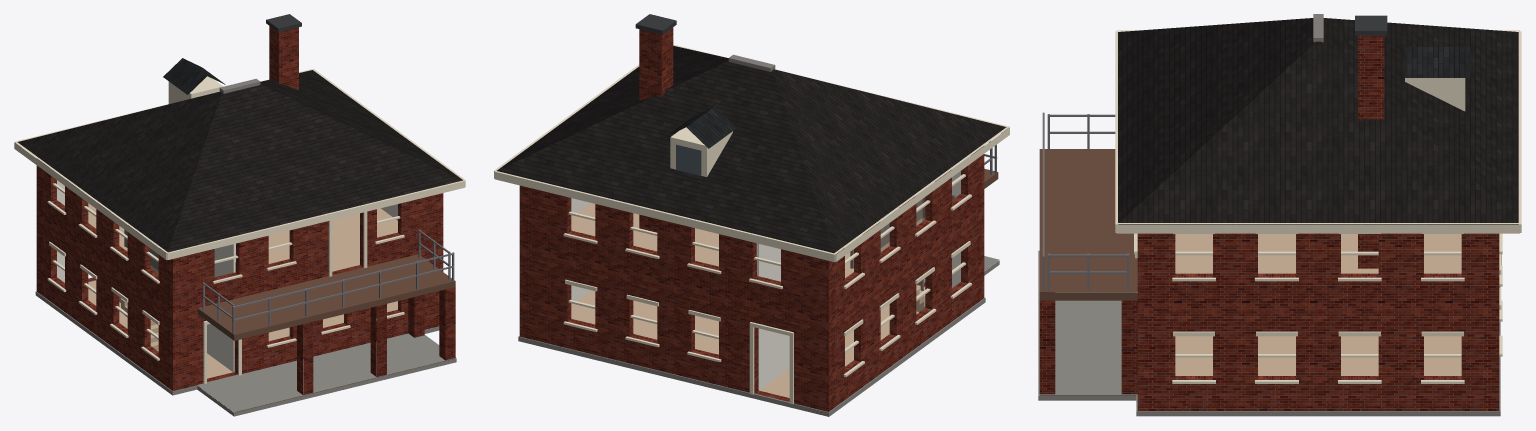
Rendered from mh-foreman-house.towns-v2.lod0.glb.
3 renders of one model, left to right at view 1: azimuth 30°, elevation 25°; view 2: azimuth 150°, elevation 25°; view 3: azimuth 270°, elevation 25°, orthographic. The views are drawn at different scales.
Parts seen in each view (by area): view 1: mh-foreman-house; view 2: mh-foreman-house; view 3: mh-foreman-house.
Boxes of the visible parts, box(x1,y1,x2,y2) form: mh-foreman-house: box(14, 14, 465, 416); mh-foreman-house: box(494, 14, 1009, 416); mh-foreman-house: box(1038, 14, 1521, 416).
Size of the model in its own units: 12.18 by 10.17 by 12.82.
5 materials, 2 textured.
